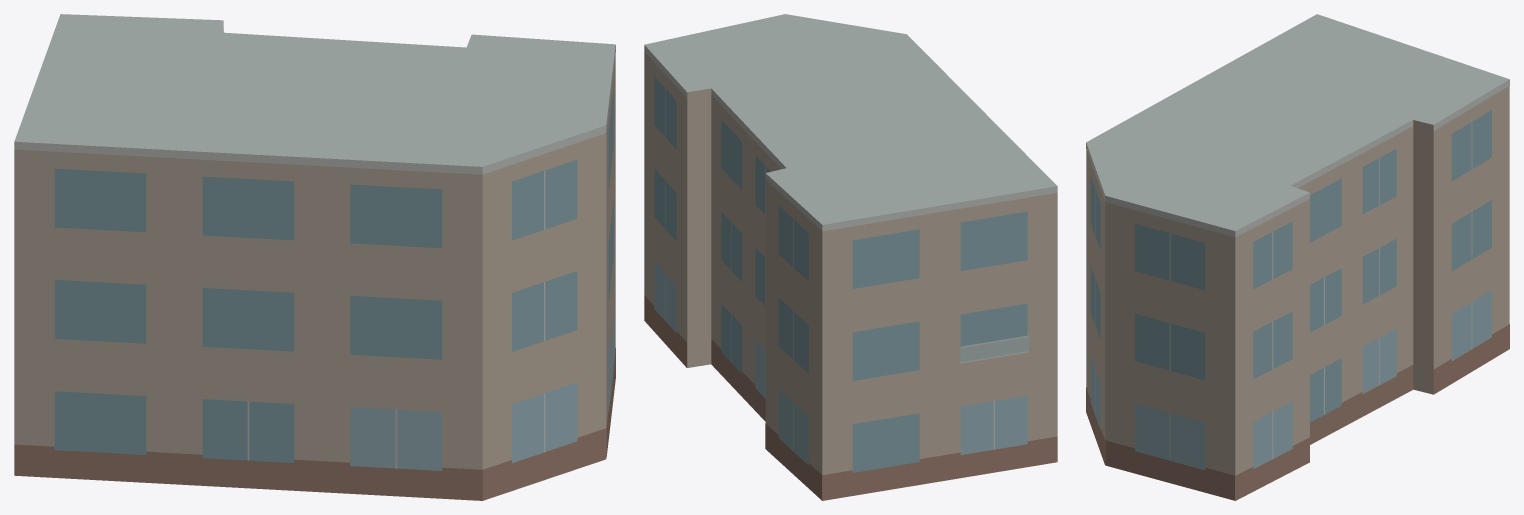
The model's file is survey-upis-32842138.glb.
3 renders of one model, left to right at view 1: azimuth 30°, elevation 25°; view 2: azimuth 150°, elevation 25°; view 3: azimuth 270°, elevation 25°, orthographic. The views are drawn at different scales.
Visible parts, largest first — view 1: survey-upis-32842138.tmp; view 2: survey-upis-32842138.tmp; view 3: survey-upis-32842138.tmp.
Boxes of the visible parts, bbox=[...] form: survey-upis-32842138.tmp: bbox=[14, 14, 615, 500]; survey-upis-32842138.tmp: bbox=[644, 14, 1057, 500]; survey-upis-32842138.tmp: bbox=[1086, 14, 1509, 500].
Size of the model in its own units: 17.96 by 10.4 by 14.81.
